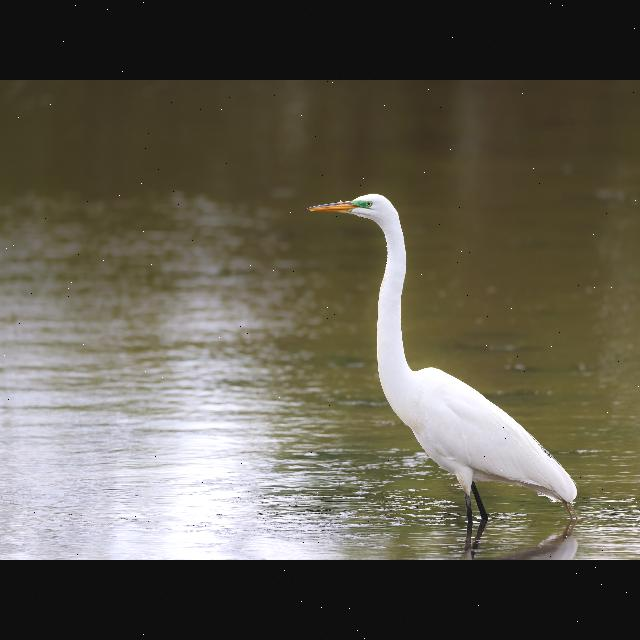egret: (291, 168, 589, 550)
